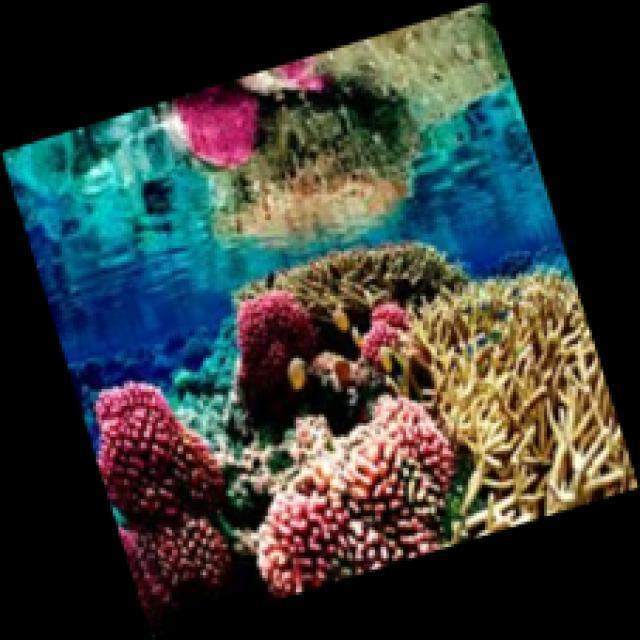Dead Coral: (290, 229, 460, 317)
